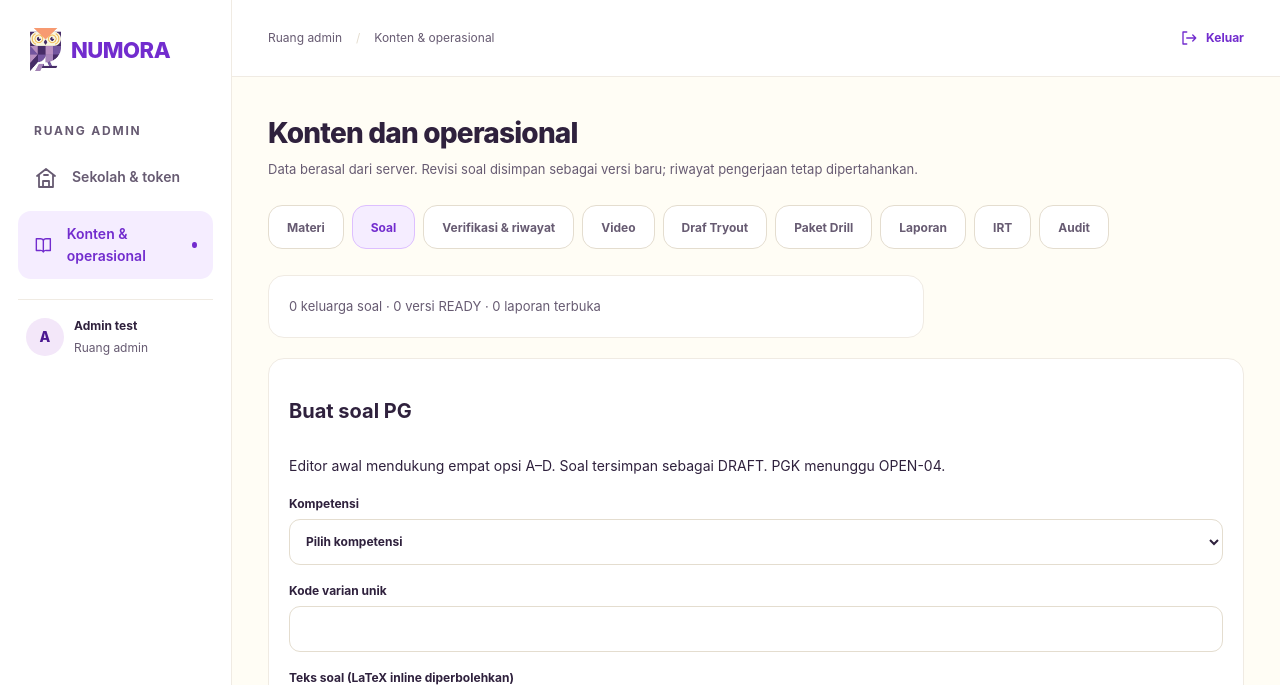
Test case: Admin content UI › shows IRT batch status separately from result release state
The image size is (1280, 685).
Click the button "IRT" at (1003,227), box [974,205,1031,249]
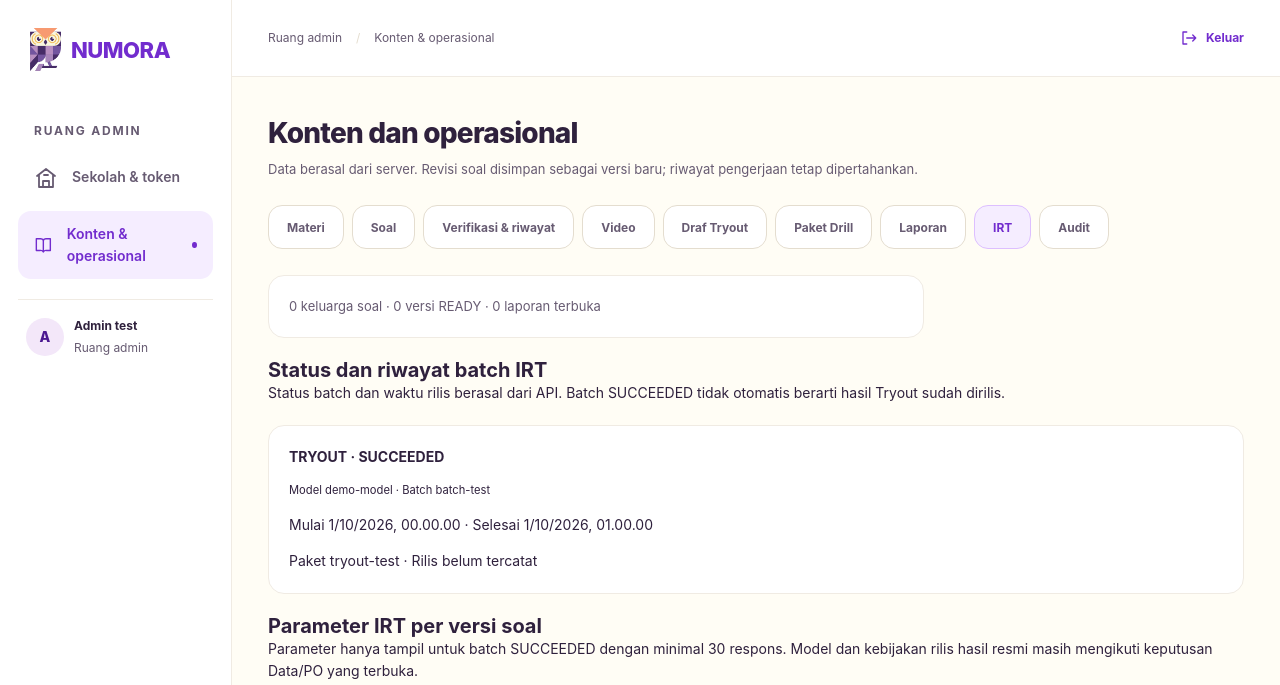
Check: the text "TRYOUT · SUCCEEDED" is shown, box [289,448,444,465]
Check: the text "Paket tryout-test · Rilis belum tercatat" is shown, box [289,552,537,569]
